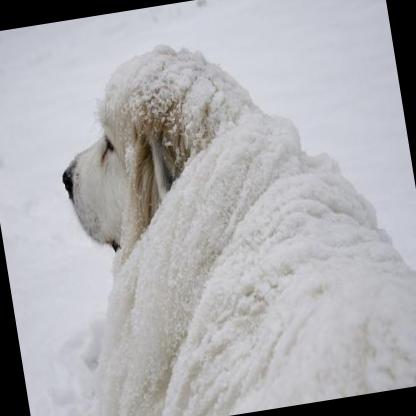Great_Pyrenees: (35, 8, 416, 416)
